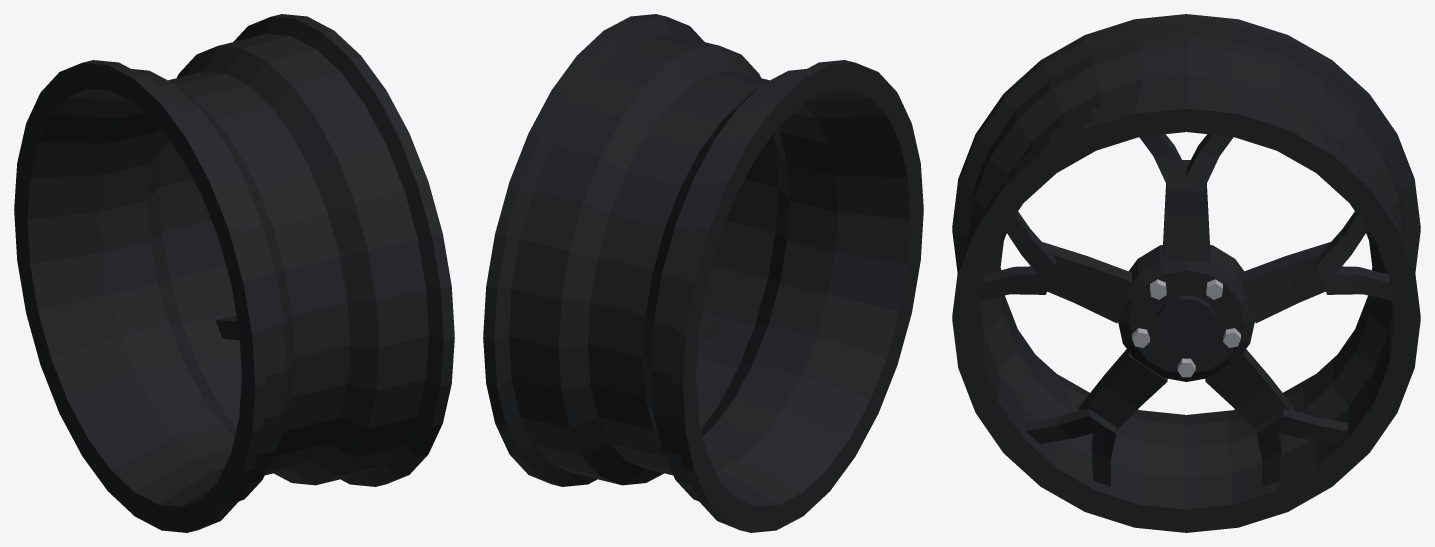
Rendered from rim_yspoke_18.glb.
3 views of the same model, side by side, from view 1: azimuth 30°, elevation 25°; view 2: azimuth 150°, elevation 25°; view 3: azimuth 270°, elevation 25° (orthographic). The views are drawn at different scales.
Visible parts, largest first — view 1: model; view 2: model; view 3: model.
Boxes of the visible parts, x1,y1,x2,y2 form: model: [14, 14, 454, 532]; model: [483, 14, 923, 532]; model: [952, 14, 1420, 532].
Bounding box in the file's own units: 0.2489 × 0.4892 × 0.4892.
Materials: 3 (1 with a texture image).
